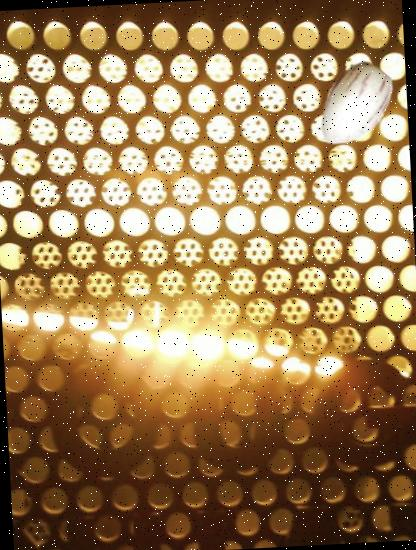Pepino: (306, 57, 403, 154)
